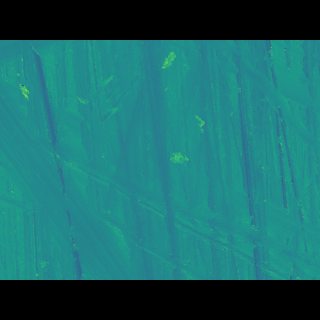Loch: (0, 97, 139, 249), (231, 79, 319, 153)
